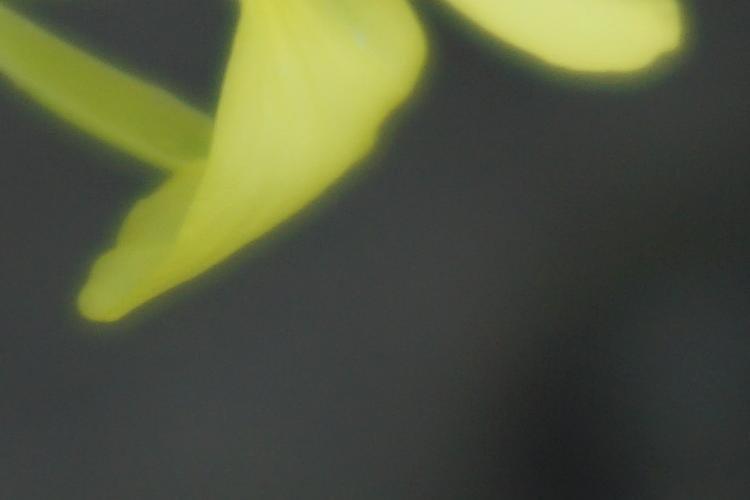yellow: (88, 7, 702, 239)
